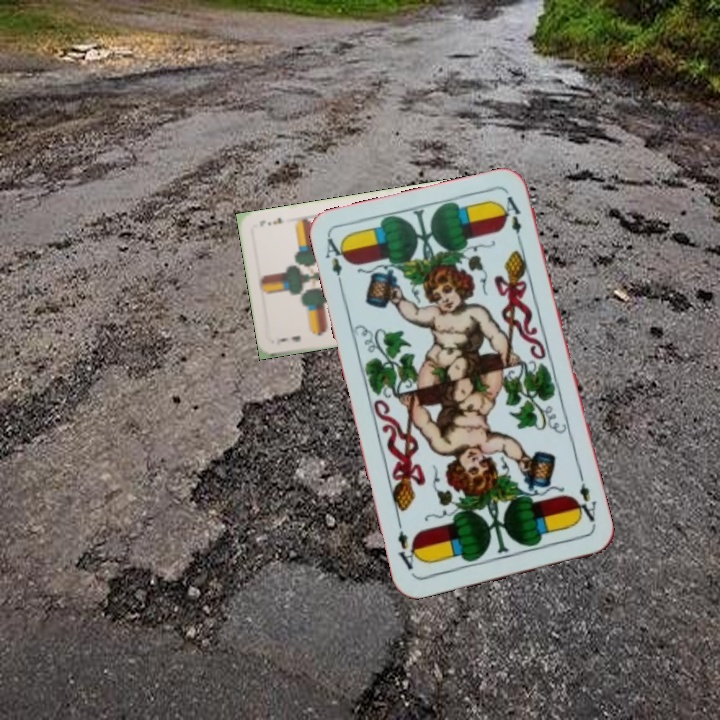E7: (272, 331, 303, 348)
EA: (570, 472, 600, 530), (321, 234, 350, 293)
